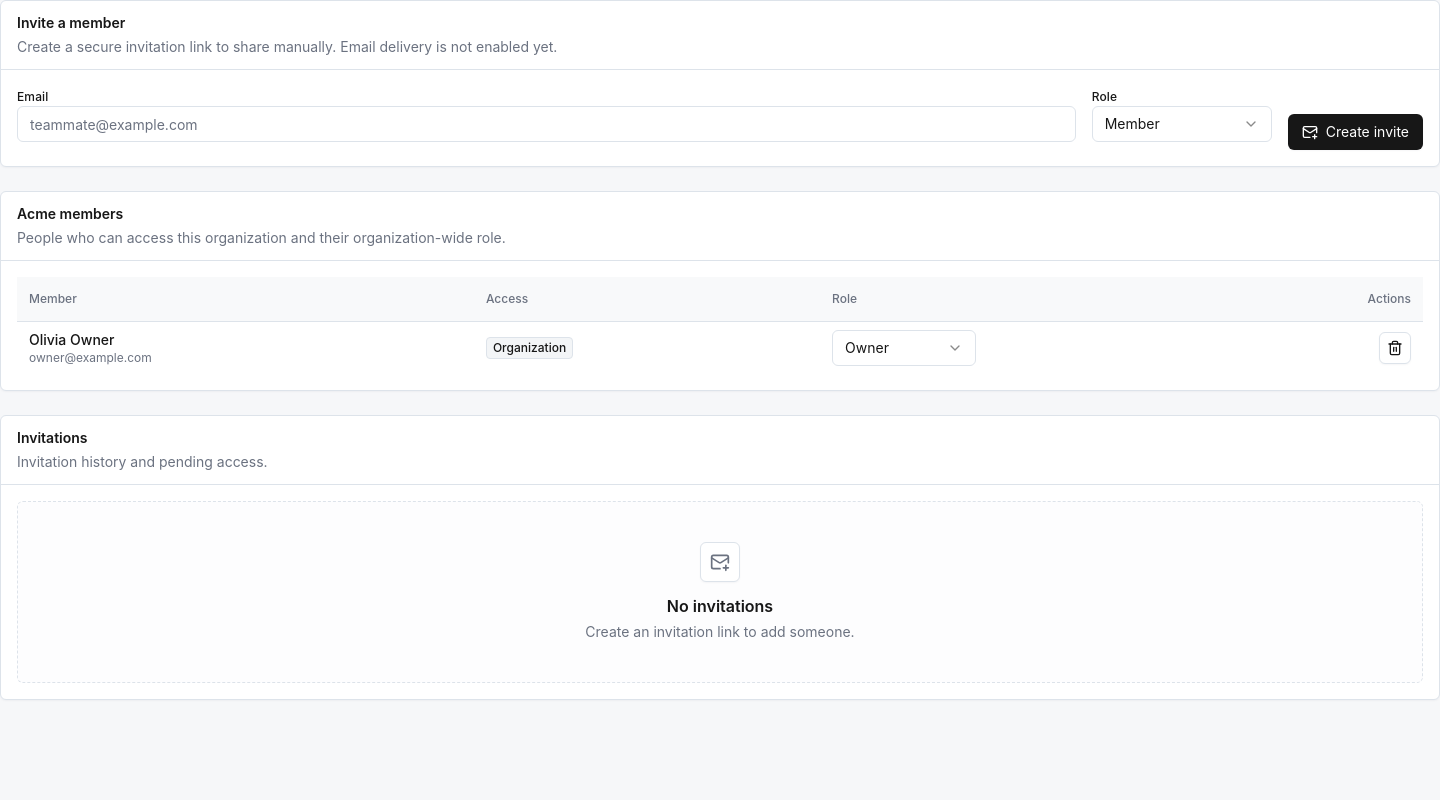
Test case: membership management › creates a manual invitation and exposes its one-time link
In the field labelled "Email": (547, 124) 17,106 -> 1076,142, type "member@example.com"
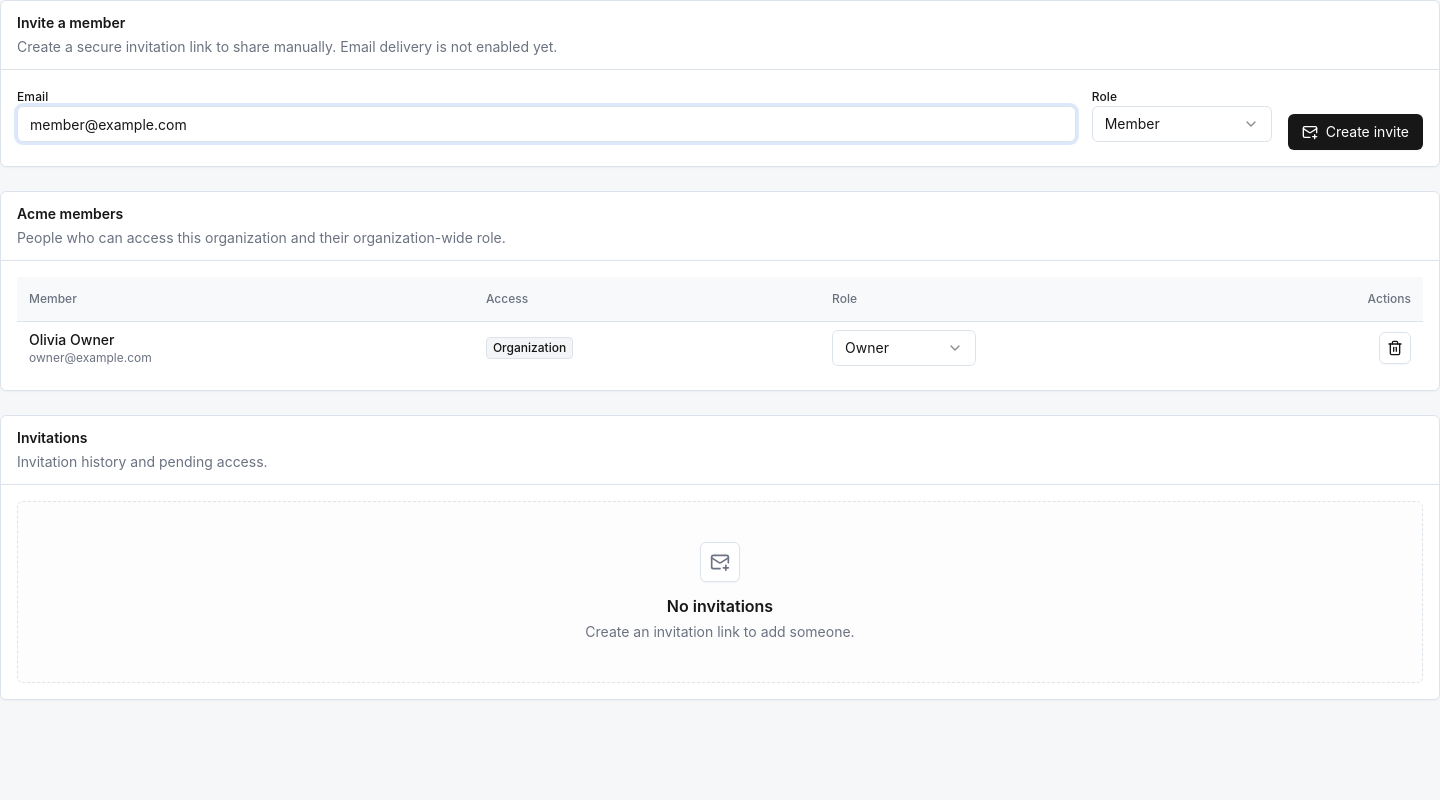
Click the button "Create invite": (1356, 132) 1288,114 -> 1423,150
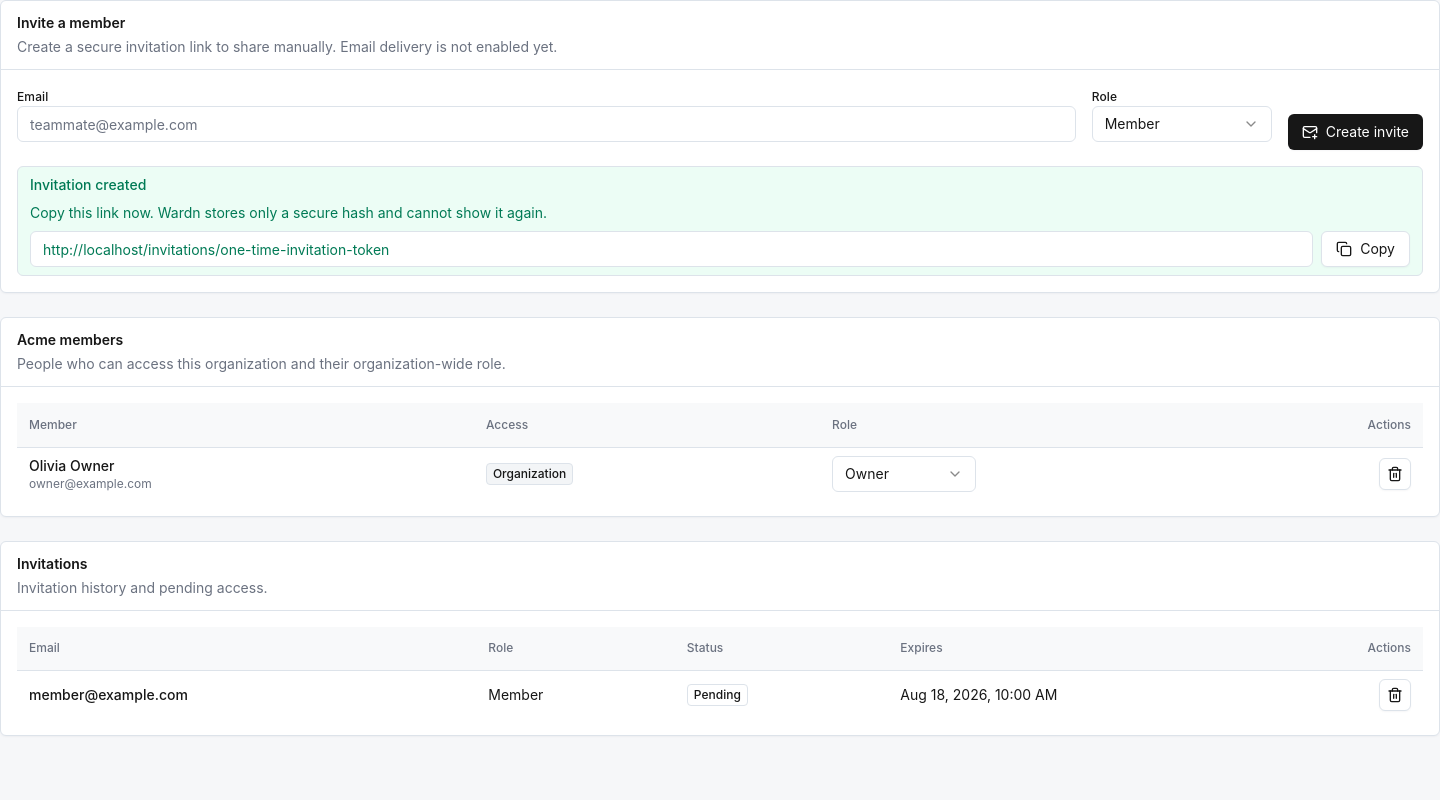
Expected: the text "Invitation created" is shown, 30,176 -> 146,193
Expected: the field named "Invitation link" is shown, 30,231 -> 1313,267
Expected: the text "member@example.com" is shown, 17,670 -> 476,719
